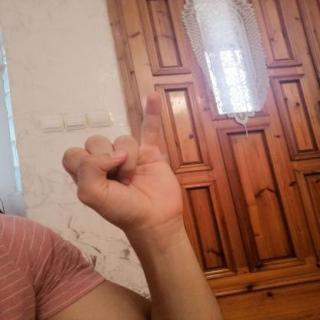MEEM: (46, 84, 206, 238)
